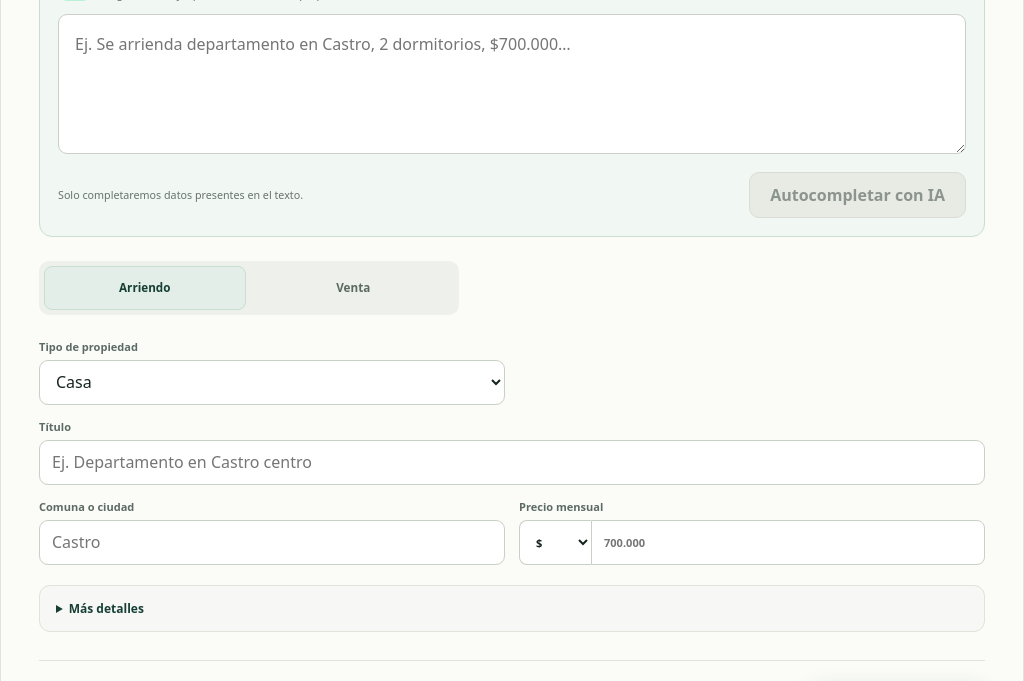
Test: NewPropertyWizardPage › conserva una edición manual cuando la sugerencia de IA es distinta
The image size is (1024, 681).
(page scrolled)
In the field with placeholder "Ej. Departamento en Castro centro": (512, 462) [39,440,985,485], type "Casa confirmada por corredor"
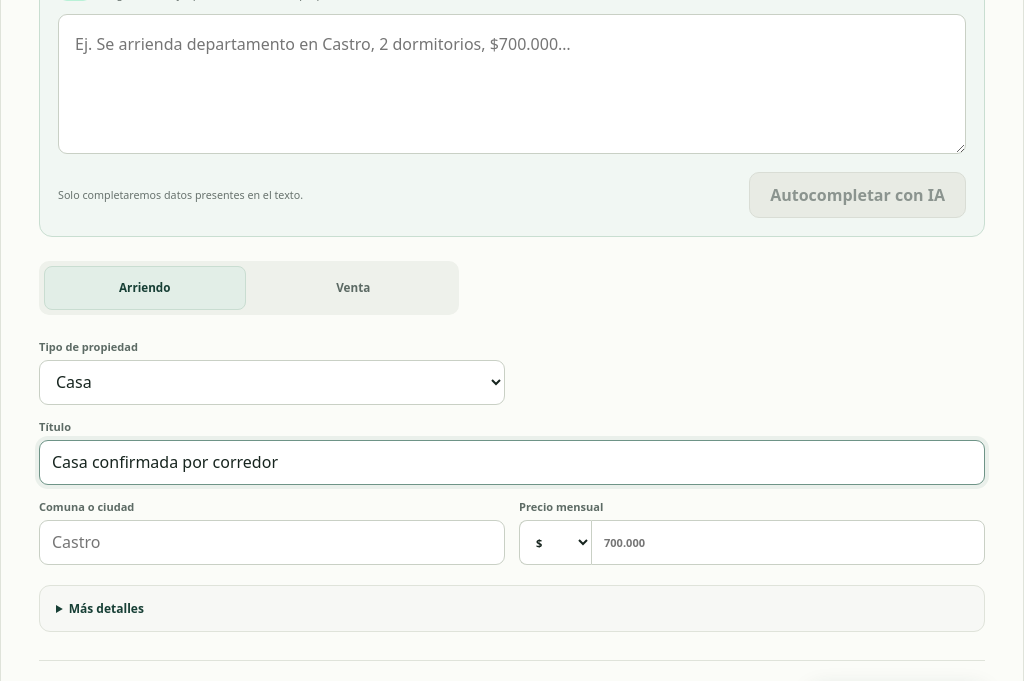
In the text box named "Información de la propiedad": (512, 84) [58,14,966,154], type "Se arrienda una casa en Castro por $700.000 al mes."
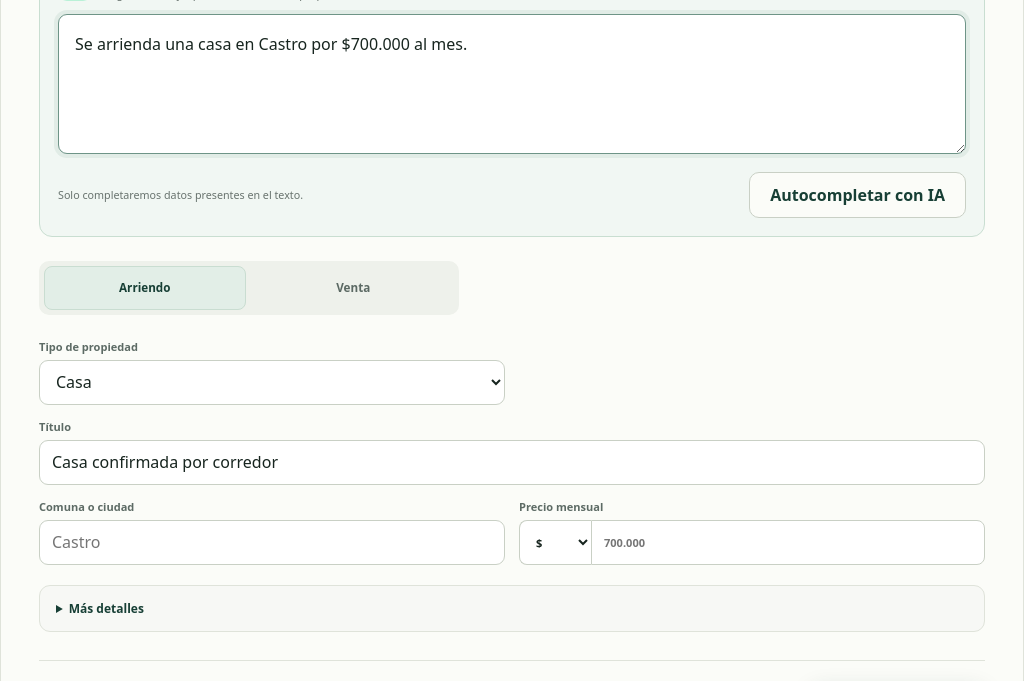
Click the button "Autocompletar con IA": click(858, 195) [749,172,966,218]
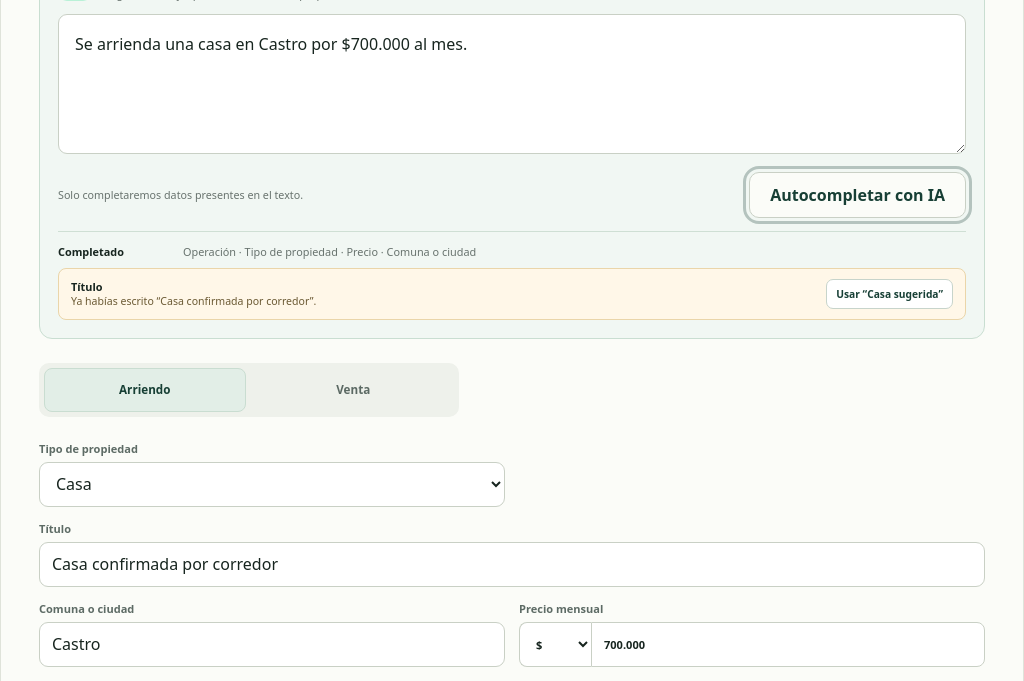
Expected: the text "Título Ya habías escrito “Casa confirmada por corredor”." is shown, [71,279,316,308]
Expected: the field named "Precio" holds "700.000", [591,622,985,667]
Click the button "Usar “Casa sugerida”": click(890, 294) [826,279,953,309]
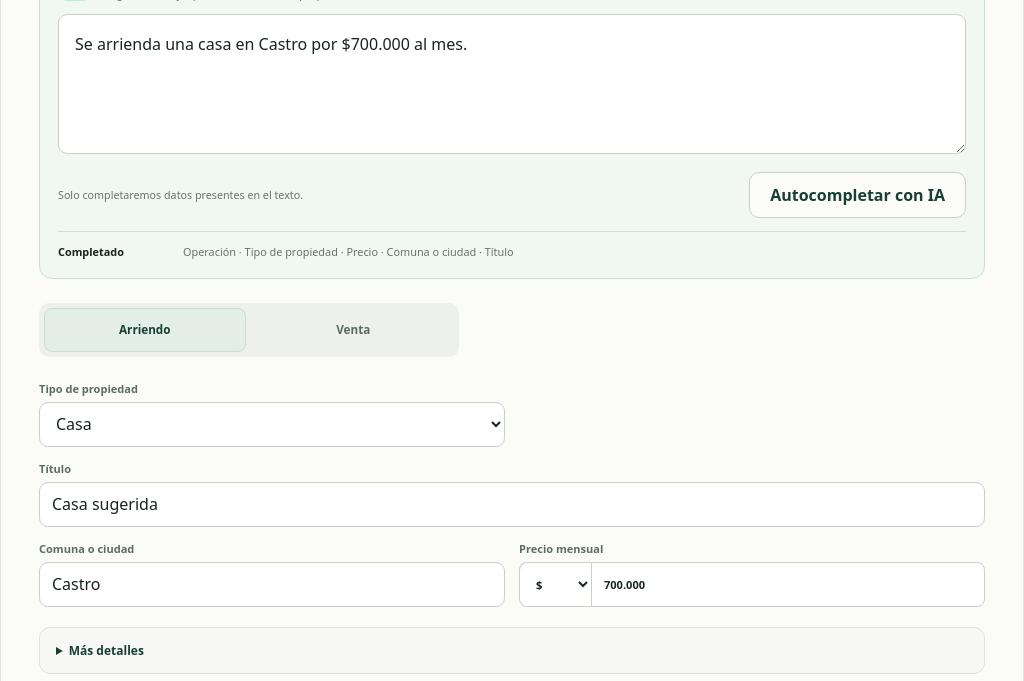
Expected: the field with placeholder "Ej. Departamento en Castro centro" holds "Casa sugerida", [39,482,985,527]
